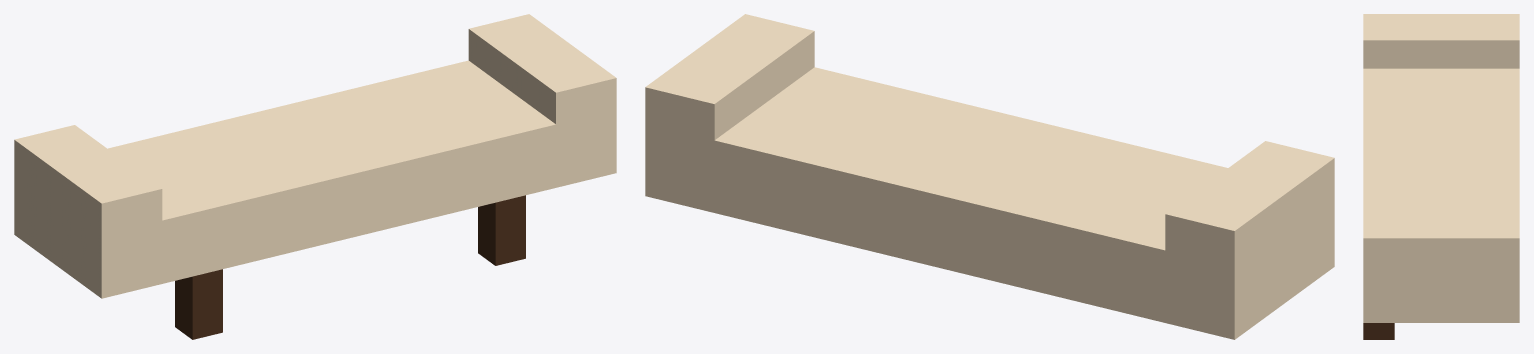
The model's file is wall_mounted_shelf.gltf.
3 views of the same model, side by side, from view 1: azimuth 30°, elevation 25°; view 2: azimuth 150°, elevation 25°; view 3: azimuth 270°, elevation 25° (orthographic). The views are drawn at different scales.
Parts seen in each view (by area): view 1: Layer.1; view 2: Layer.1; view 3: Layer.1.
Boxes of the visible parts, left/top/right/bottom form: Layer.1: left=14, top=14, right=616, bottom=339; Layer.1: left=645, top=14, right=1334, bottom=339; Layer.1: left=1363, top=14, right=1519, bottom=339.
Size of the model in its own units: 17 by 5 by 5.
1 material, 1 textured.
